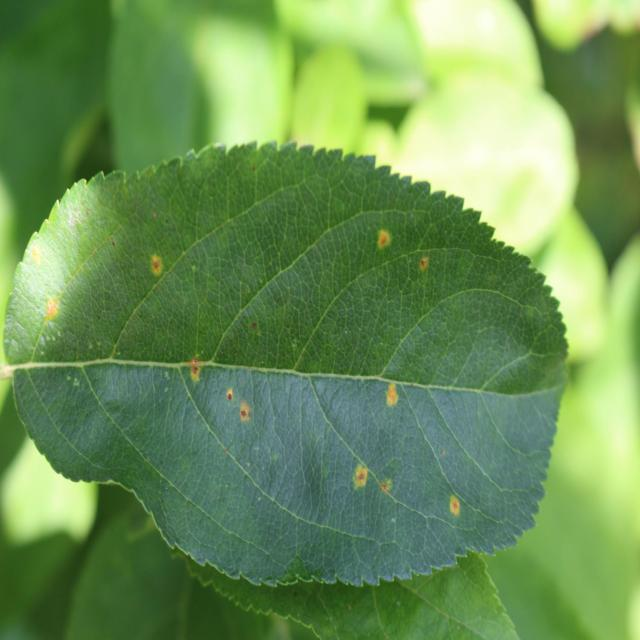Rust: (361, 219, 400, 263), (372, 368, 405, 417), (439, 480, 468, 534), (34, 288, 72, 328), (137, 244, 173, 284), (236, 392, 261, 444), (347, 450, 372, 502), (24, 226, 49, 276), (376, 469, 402, 513), (183, 349, 207, 390), (418, 244, 433, 291), (222, 384, 239, 413)
